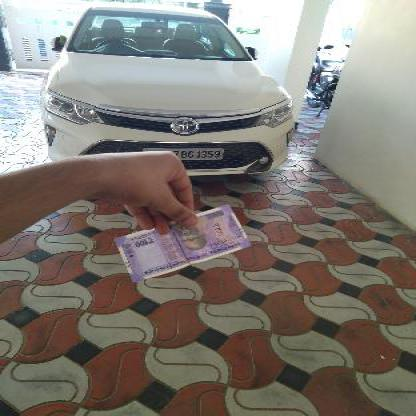New100Front: (115, 207, 249, 273)
